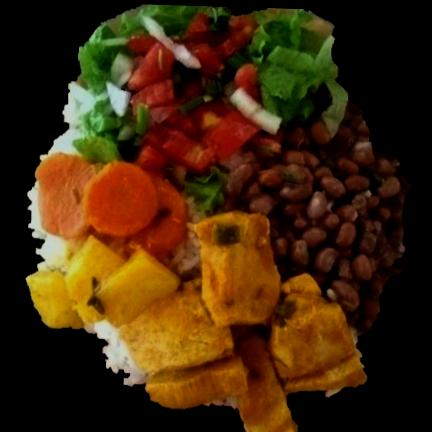beans: (223, 93, 412, 331)
carrot: (32, 152, 186, 252)
cassava: (22, 211, 374, 432)
salad: (80, 4, 349, 210)
tomato: (123, 11, 263, 174)
